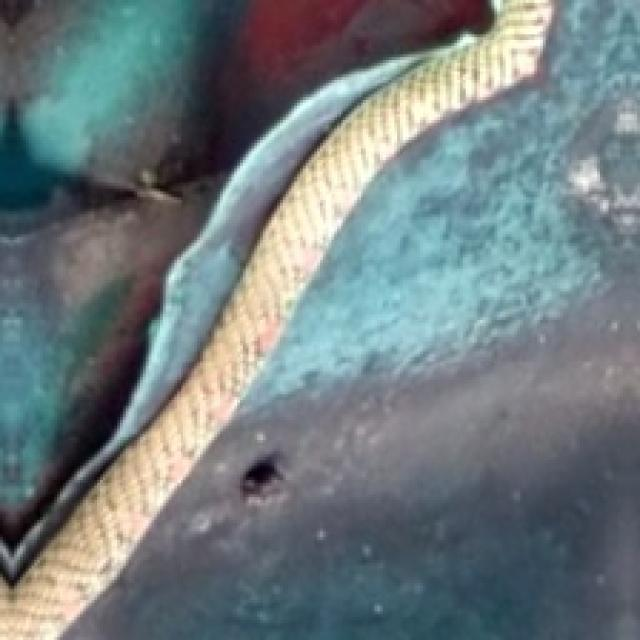paradise tree snake: (0, 0, 549, 637)
